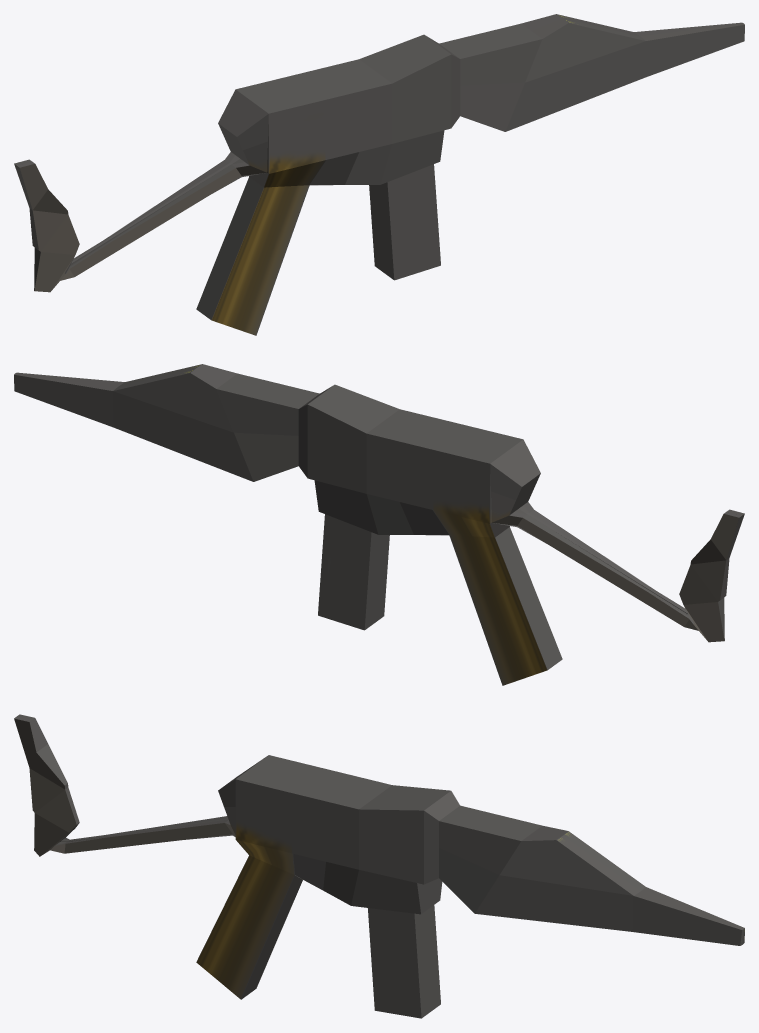
The model's file is rifle.glb.
3 views of the same model, one above another, from view 1: azimuth 30°, elevation 25°; view 2: azimuth 150°, elevation 25°; view 3: azimuth 330°, elevation 25° (orthographic).
Parts seen in each view (by area): view 1: Cube, Cube.001; view 2: Cube, Cube.001; view 3: Cube, Cube.001.
Part boxes in pixels (box(x1,y1,x2,y2)): Cube: box(14, 14, 744, 335); Cube.001: box(369, 164, 440, 280); Cube: box(14, 364, 744, 685); Cube.001: box(318, 514, 389, 630); Cube: box(14, 714, 744, 999); Cube.001: box(368, 905, 440, 1018).
Bounding box in the file's own units: 4.22 × 1.33 × 0.3349.
2 materials, 2 textured.
